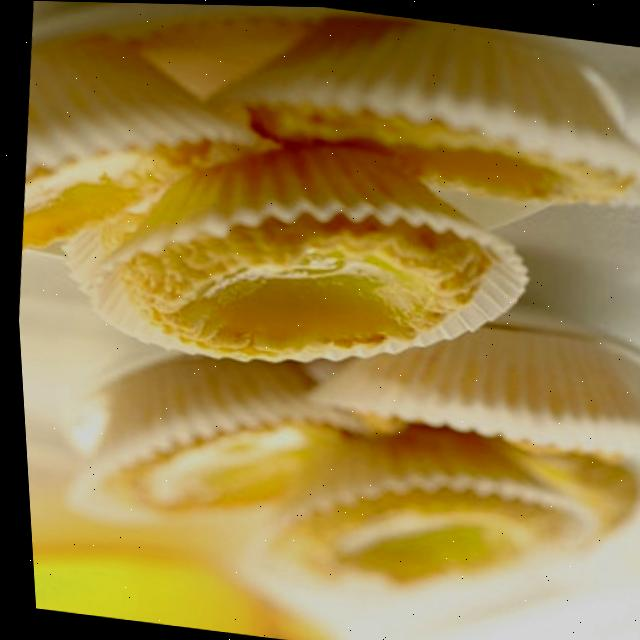炸货点心: (0, 3, 640, 622)
蛋糕甜品: (0, 3, 640, 622)
